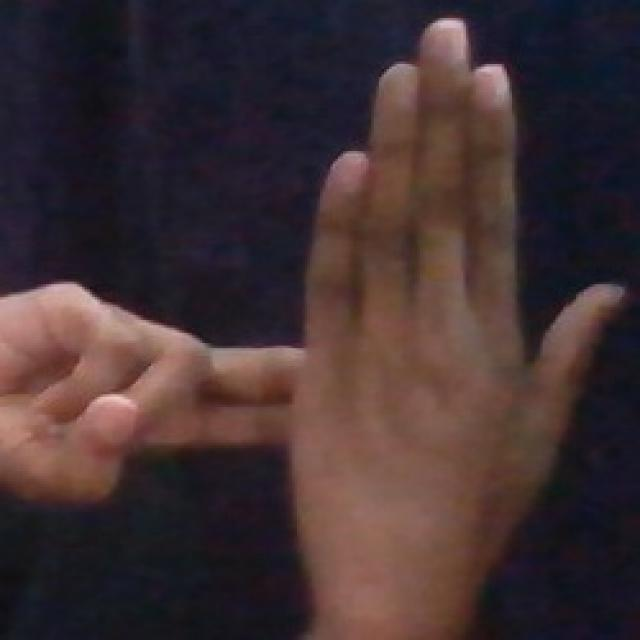Alphabet-N: (0, 0, 638, 589)
